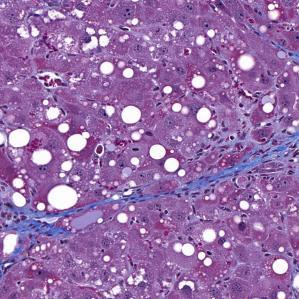fibrosis: (162, 141, 281, 200), (9, 205, 92, 248)
